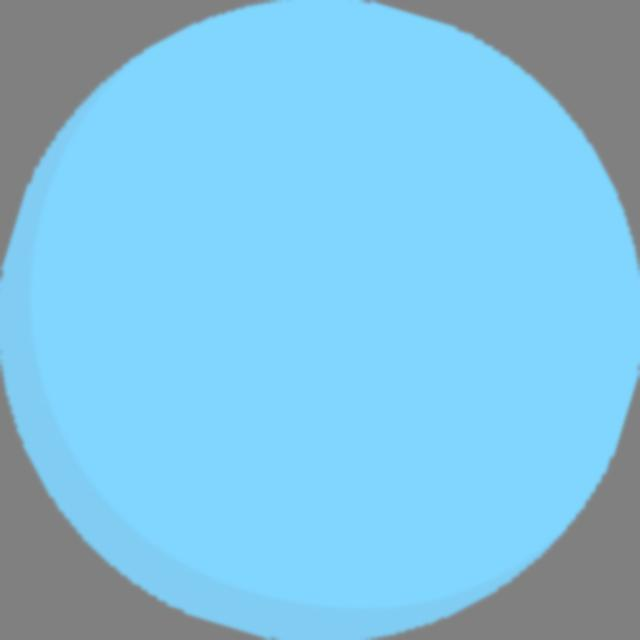blue circle: (4, 1, 640, 638)
